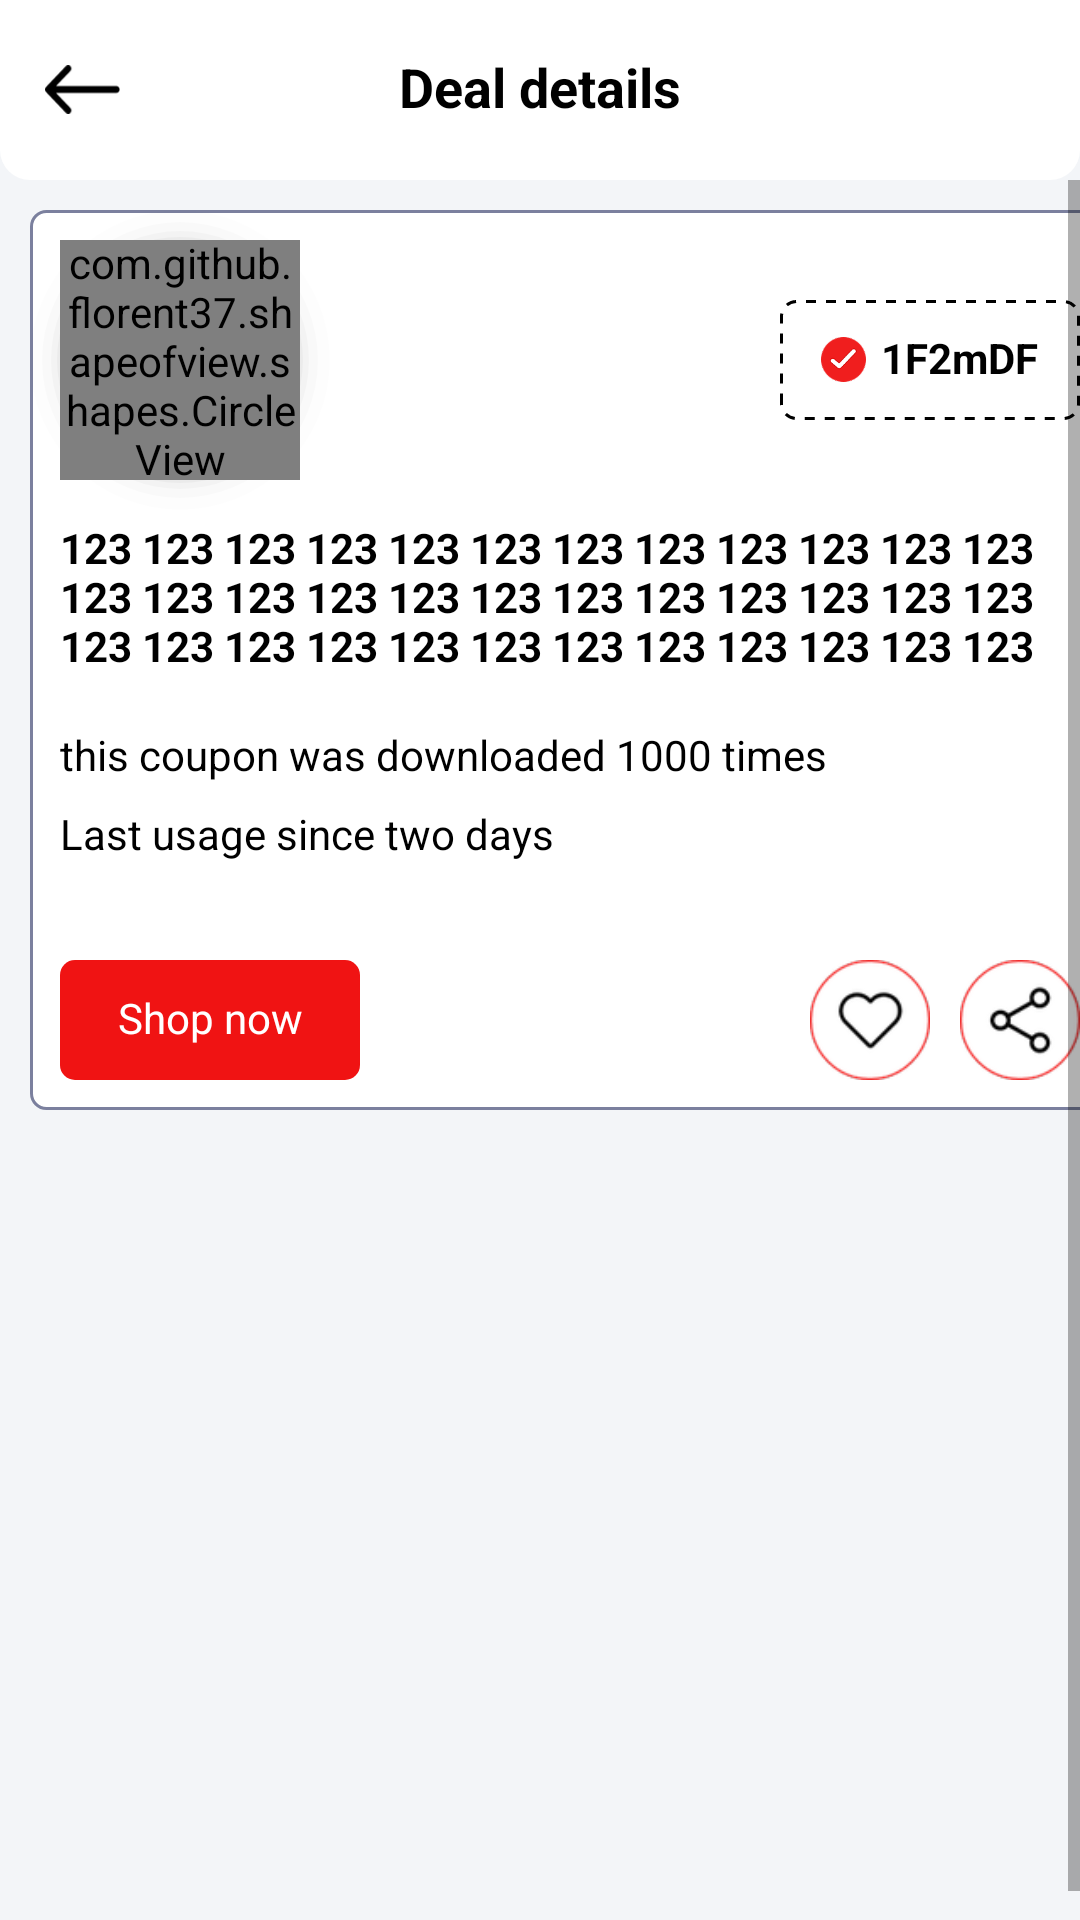

Screen size 1080 x 1920. Icon name, then its box in pixels as [left=x1, top=y1, right=x2, bottom=y2]:
back: [left=45, top=65, right=120, bottom=114]
favourite: [left=810, top=960, right=930, bottom=1080]
right: [left=821, top=337, right=866, bottom=382]
share: [left=960, top=960, right=1080, bottom=1080]
